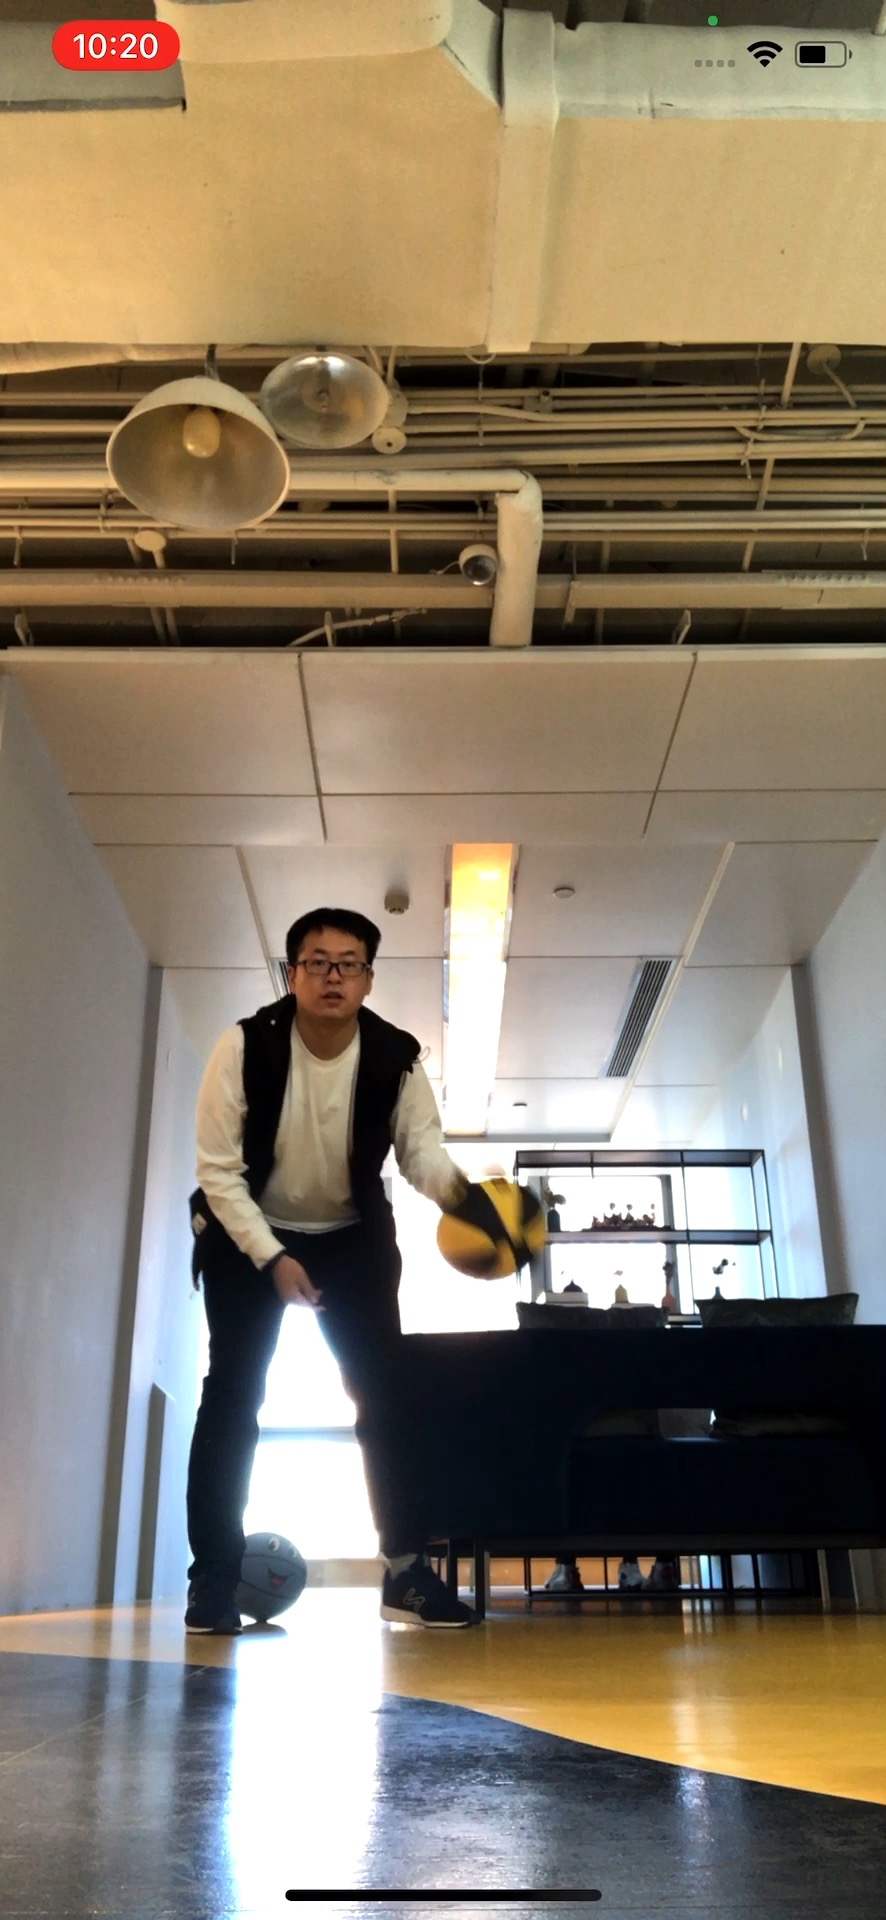ball: (434, 1176, 551, 1282), (235, 1529, 303, 1614)
